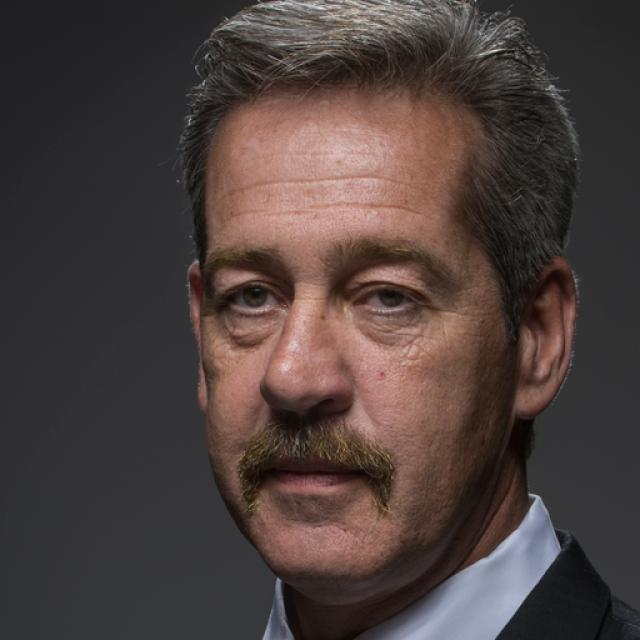sad: (198, 86, 516, 579)
